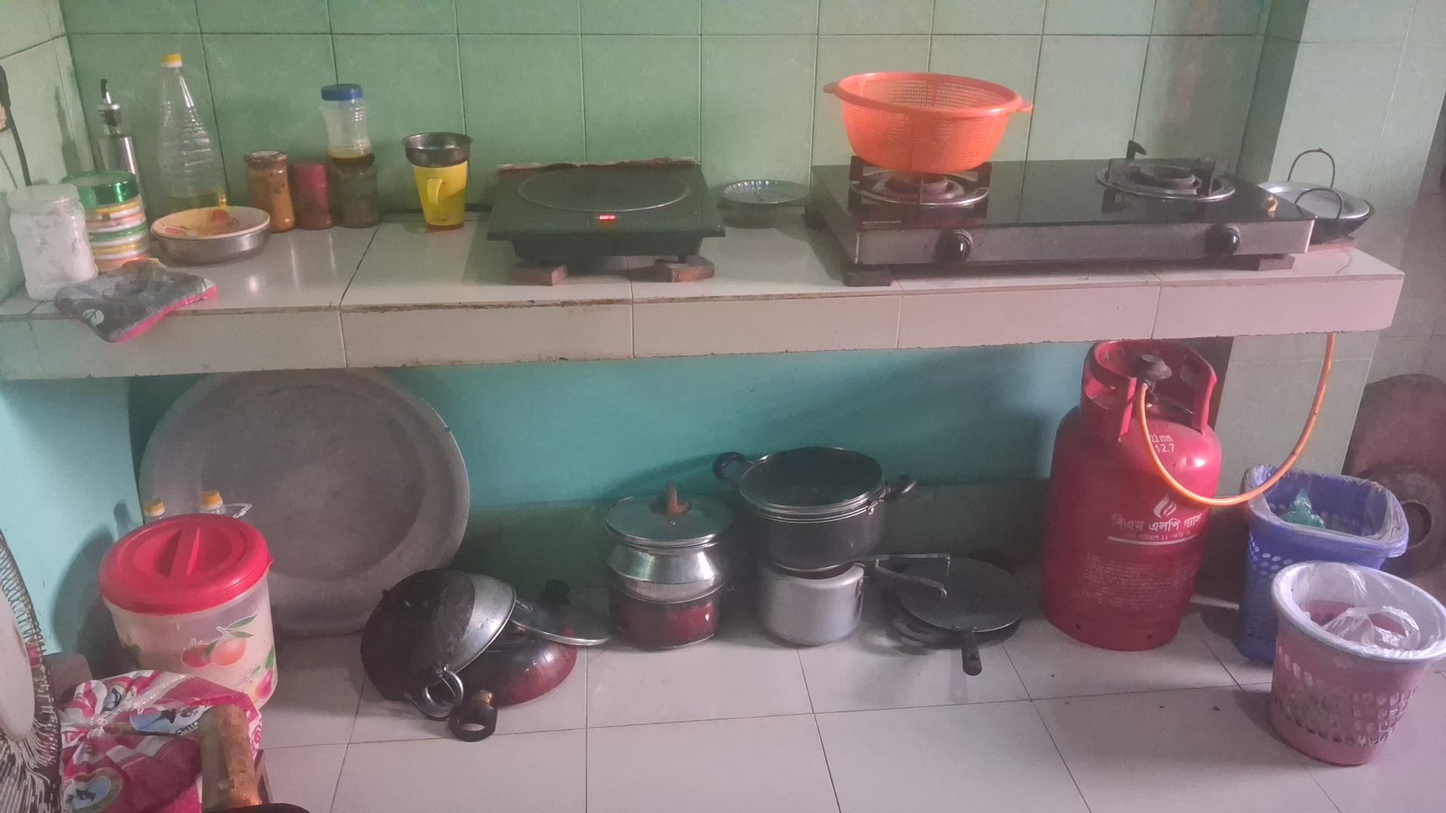Basket: (1278, 546, 1446, 770), (1247, 455, 1414, 674), (822, 67, 1035, 176)
Bottle: (150, 48, 228, 210)
Bowl: (152, 208, 269, 271), (718, 178, 816, 230)
Cooker: (763, 557, 948, 646)
Jar: (106, 514, 278, 711), (2, 186, 98, 299), (59, 165, 147, 273), (317, 80, 373, 160), (243, 150, 295, 230), (338, 158, 384, 228), (301, 160, 336, 228)
Mug: (410, 160, 475, 230)
Pan: (891, 555, 1028, 672)
Pot: (714, 444, 915, 568), (612, 475, 731, 603)
